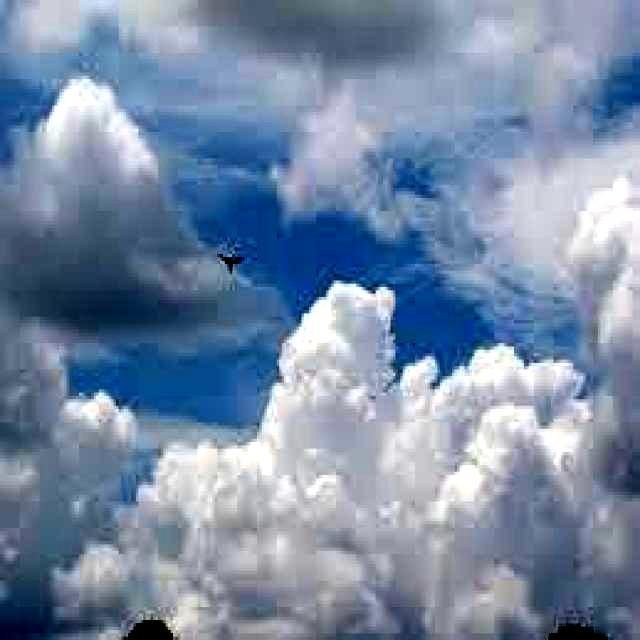bird: (218, 244, 241, 276)
